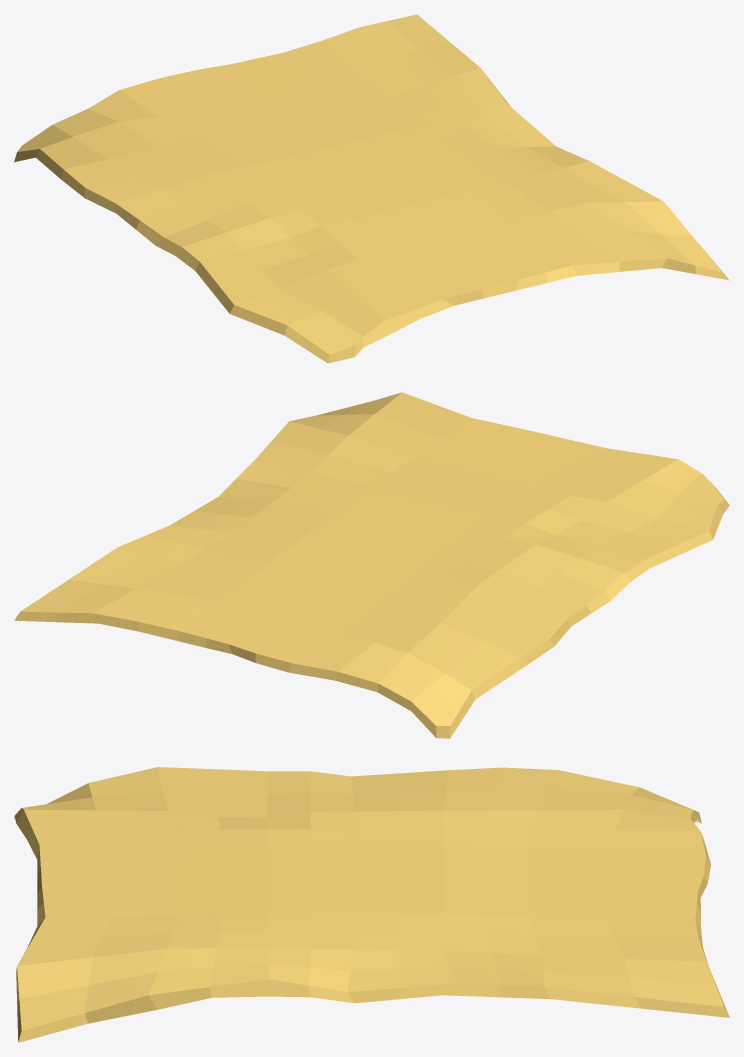
The model's file is cheese-transformed.glb.
3 views of the same model, one above another, from view 1: azimuth 30°, elevation 25°; view 2: azimuth 150°, elevation 25°; view 3: azimuth 270°, elevation 25° (orthographic). The views are drawn at different scales.
Visible parts, largest first — view 1: cheese; view 2: cheese; view 3: cheese.
Boxes of the visible parts, box(x1,y1,x2,y2) form: cheese: box(14, 14, 729, 363); cheese: box(14, 392, 729, 738); cheese: box(14, 767, 729, 1042).
Bounding box in the file's own units: 1.19 × 0.128 × 1.49.
